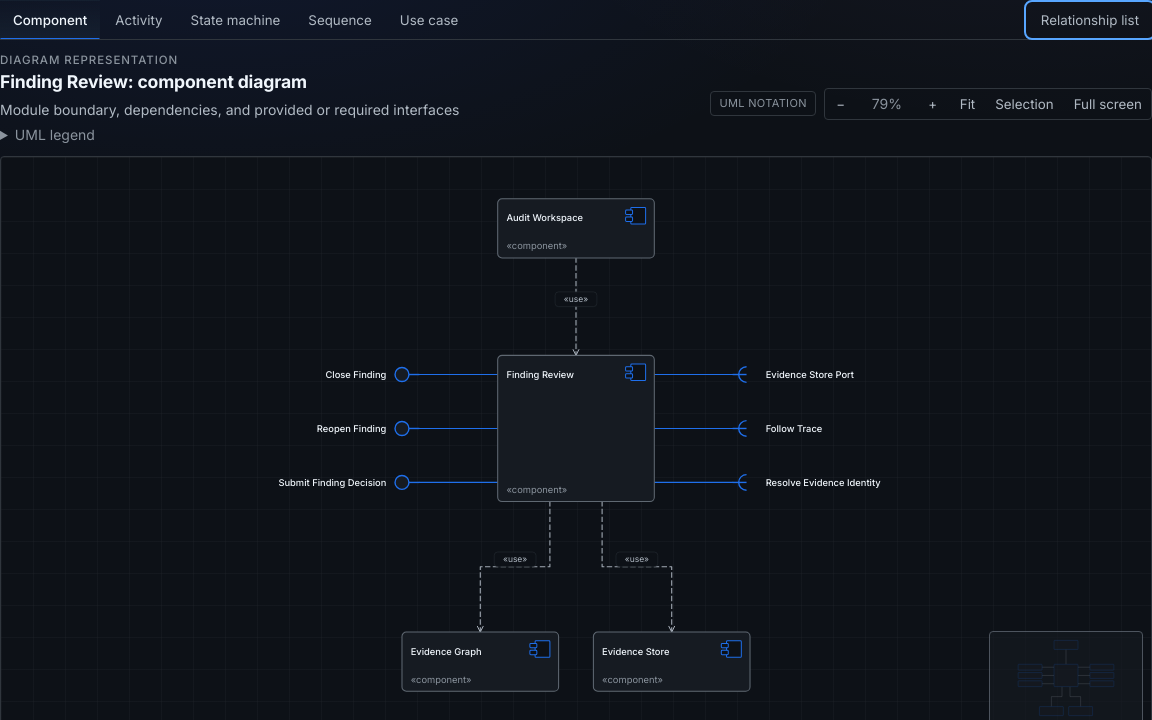
Test: Diagram text alternative is keyboard reachable (§15.2, §18.4) › the stable "Relationship list" control is a native, focusable button and reveals a named list on activation
This screenshot has width=1152, height=720.
What coordinates should you click on to do the following:
click the button "Relationship list"
I would click on:
 (1090, 20)
Its box is [1028,4,1151,36].
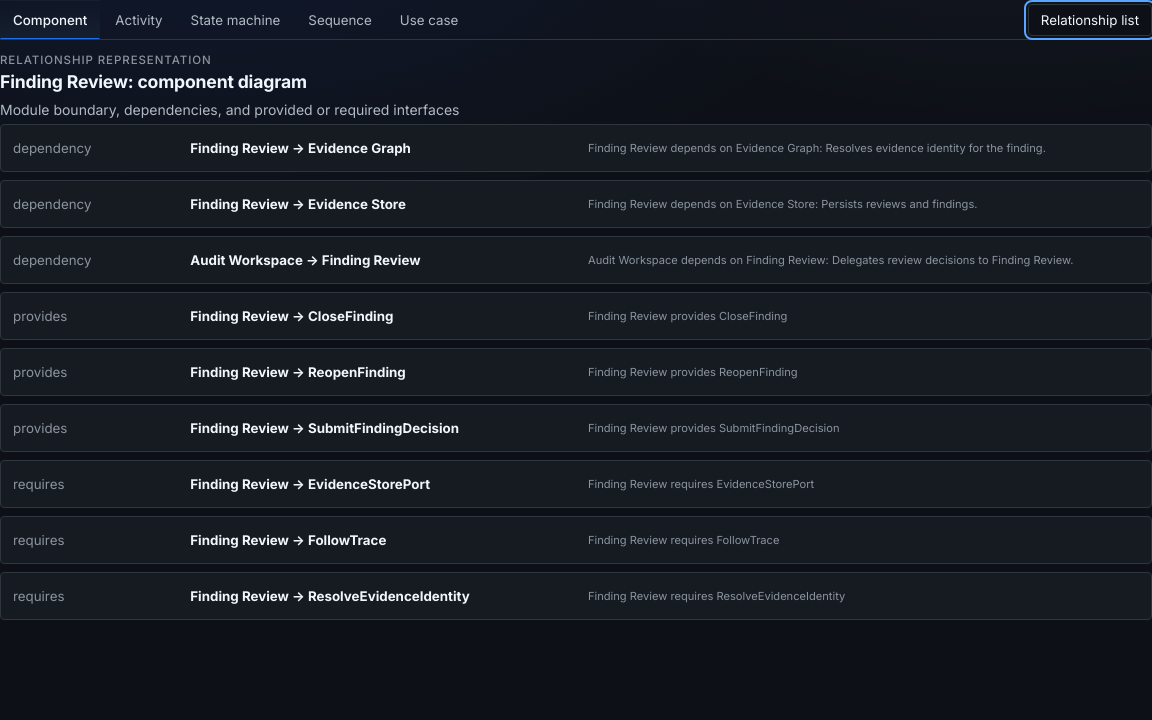
Check: the 1st list item is shown, box [0,124,1151,172]
